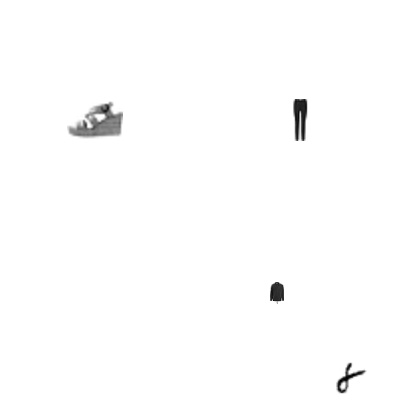8: (326, 357, 368, 399)
Coat: (266, 282, 288, 304)
Sandal: (67, 92, 123, 148)
Trouser: (280, 99, 322, 141)
